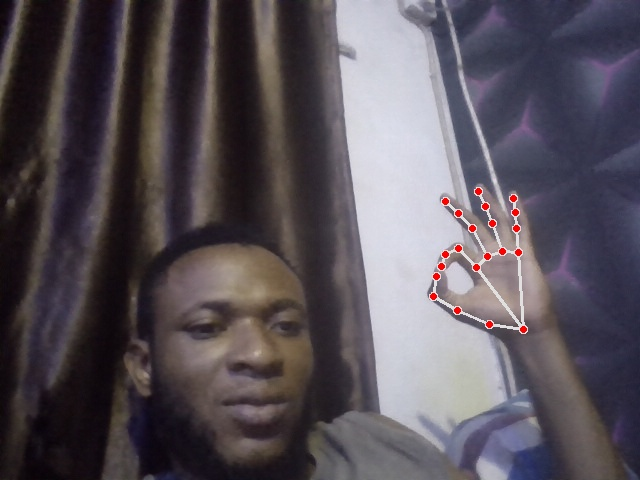okay: (425, 183, 551, 337)
